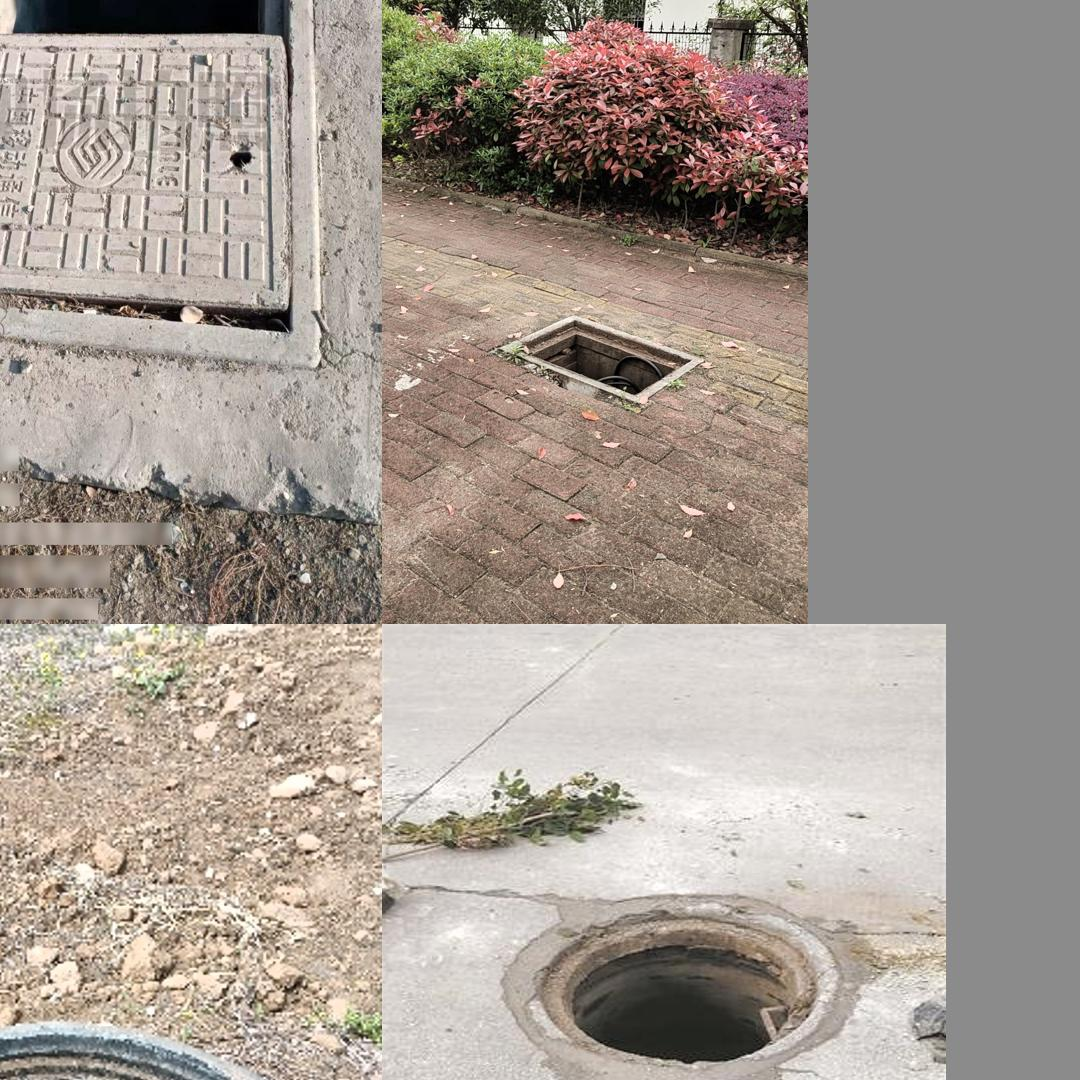lose: (0, 0, 321, 372), (492, 889, 868, 1080), (485, 307, 710, 416), (0, 1023, 319, 1080)
